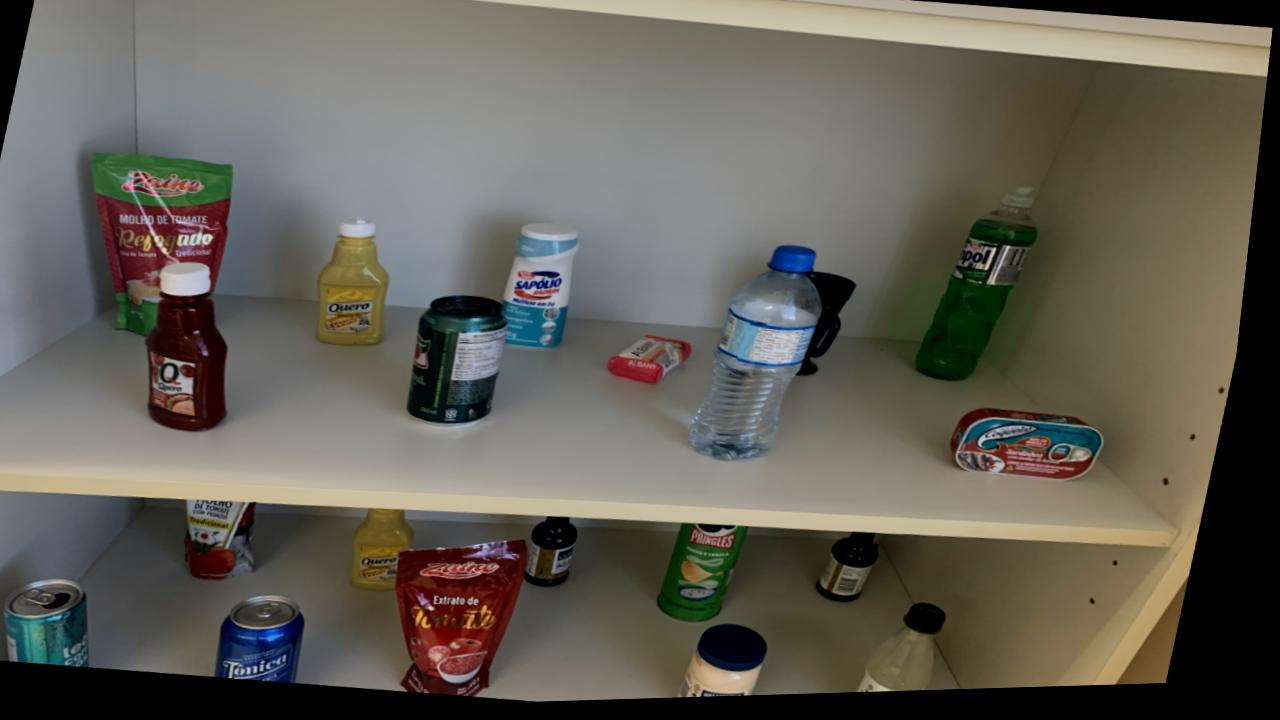Cleaner-Cleanup_Items: (510, 226, 585, 352)
Detergent-Cleanup_Items: (924, 192, 1045, 386)
English_Sauce-Pantry_Items: (831, 537, 893, 607), (538, 520, 591, 590)
Guarana_Can-Drinks: (416, 298, 516, 430)
Ketchup-Pantry_Items: (153, 263, 237, 432)
Mayonnaise-Pantry_Items: (695, 629, 783, 702)
Mustard-Pantry_Items: (324, 220, 396, 348), (364, 511, 427, 593)
Pringles-Snacks: (671, 527, 760, 626)
Soap-Cleanup_Items: (616, 339, 700, 388)
Soda-Drinks: (871, 609, 961, 698)
Tea-Drinks: (18, 579, 105, 668)
Tomato_Sauce-Pantry_Items: (94, 153, 238, 334), (409, 542, 541, 698), (197, 501, 268, 582)
Tonic-Drinks: (230, 597, 320, 685)
Tuna_Can-Pantry_Items: (961, 413, 1115, 487)
Water_Bottle-Drinks: (699, 250, 830, 465)
